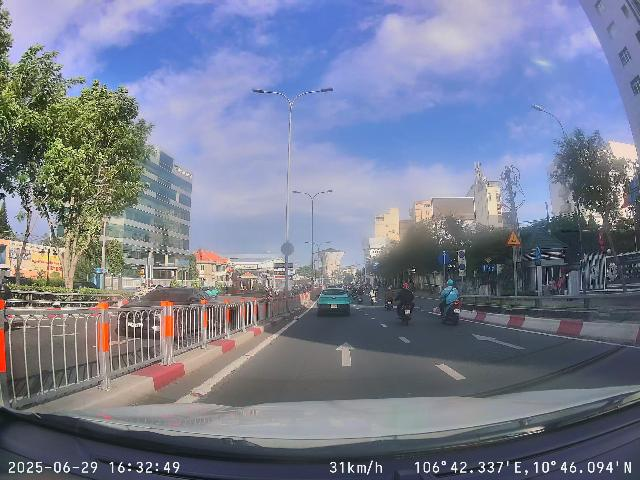245-di-cham: (506, 230, 521, 246)
301a-cac-xe-chi-duoc-di-thang: (438, 251, 450, 264)
